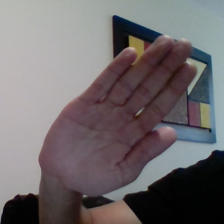left: (22, 18, 205, 201)
